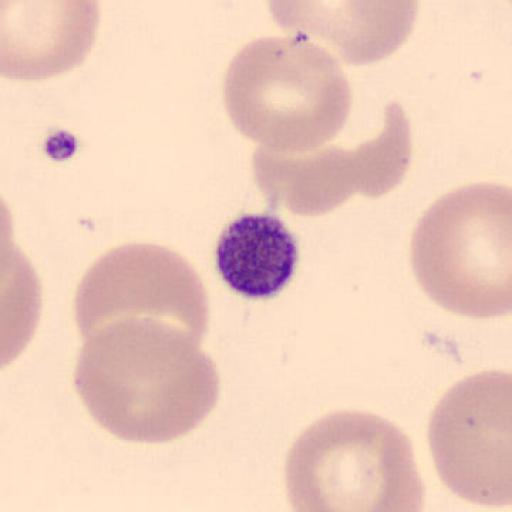Platelet: (213, 208, 304, 296), (38, 126, 84, 169)
RBC: (71, 313, 221, 444), (71, 240, 211, 365), (222, 35, 353, 154), (406, 179, 510, 323), (283, 406, 425, 511), (424, 368, 510, 509), (318, 98, 414, 208), (267, 0, 421, 68), (249, 134, 361, 217), (0, 0, 101, 82), (0, 202, 43, 370)
